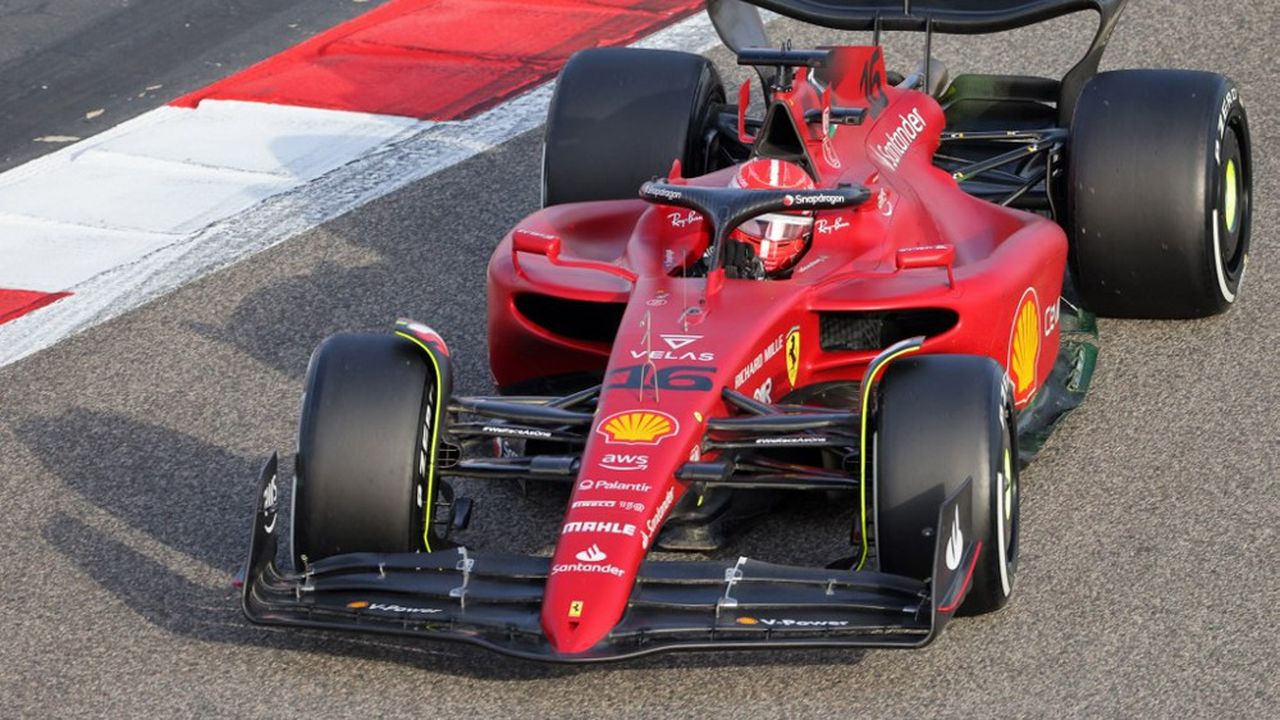Formule 1: (242, 0, 1241, 655)
